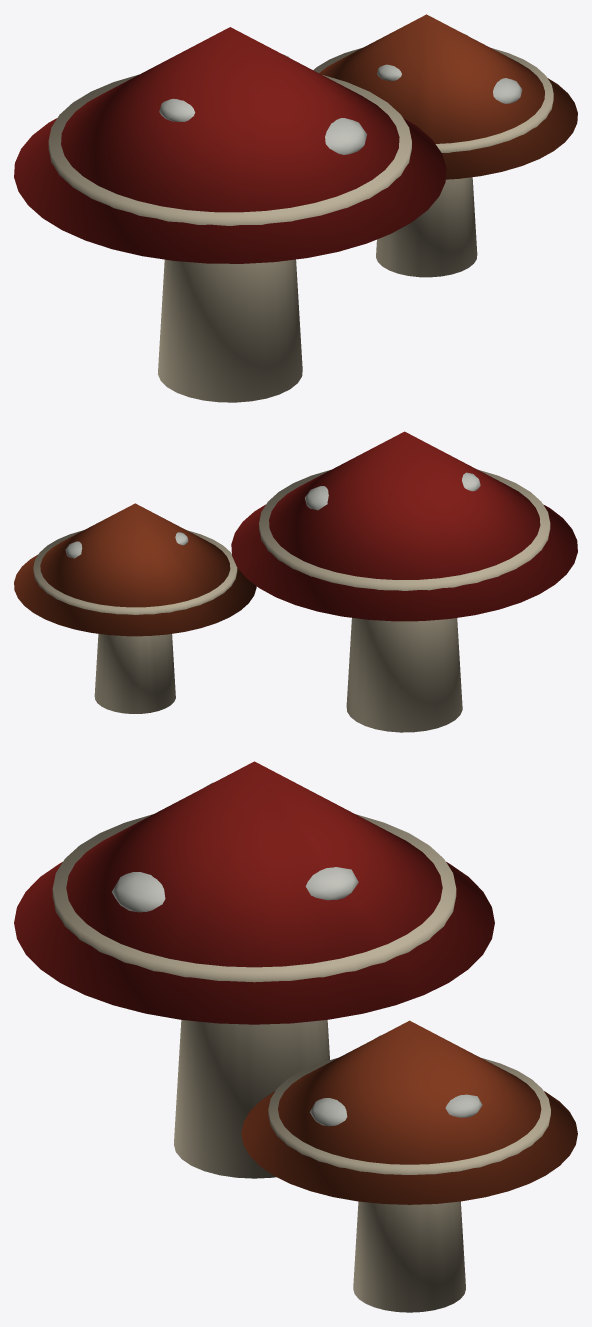
File: mushroom.obj
The picture shows the model from 3 angles, top to bottom: view 1: azimuth 30°, elevation 25°; view 2: azimuth 150°, elevation 25°; view 3: azimuth 270°, elevation 25°; orthographic projection. The views are drawn at different scales.
Visible parts, largest first — view 1: mushroom; view 2: mushroom; view 3: mushroom.
Boxes of the visible parts, x1,y1,x2,y2 form: mushroom: [14, 14, 577, 402]; mushroom: [14, 431, 577, 732]; mushroom: [14, 761, 577, 1312].
Size of the model in its own units: 0.4835 by 0.2725 by 0.3635.
